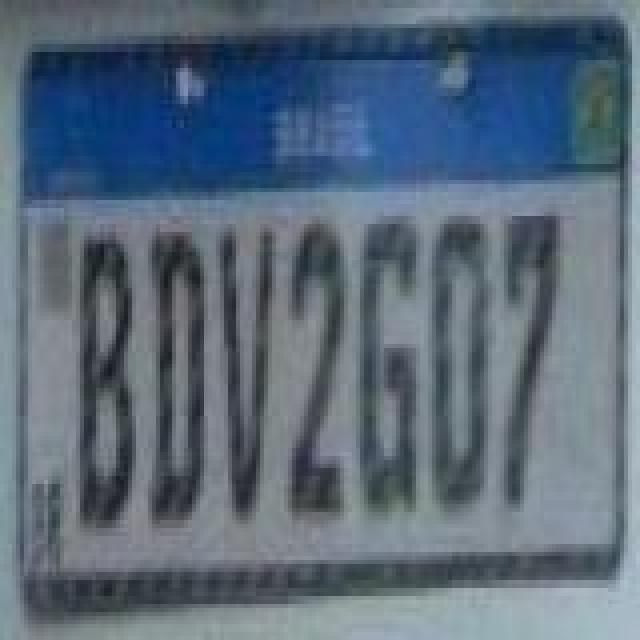2: (288, 216, 352, 520)
7: (496, 208, 560, 512)
B: (76, 232, 132, 536)
D: (428, 212, 492, 516), (146, 224, 206, 528)
G: (356, 216, 420, 520)
V: (220, 224, 276, 520)
